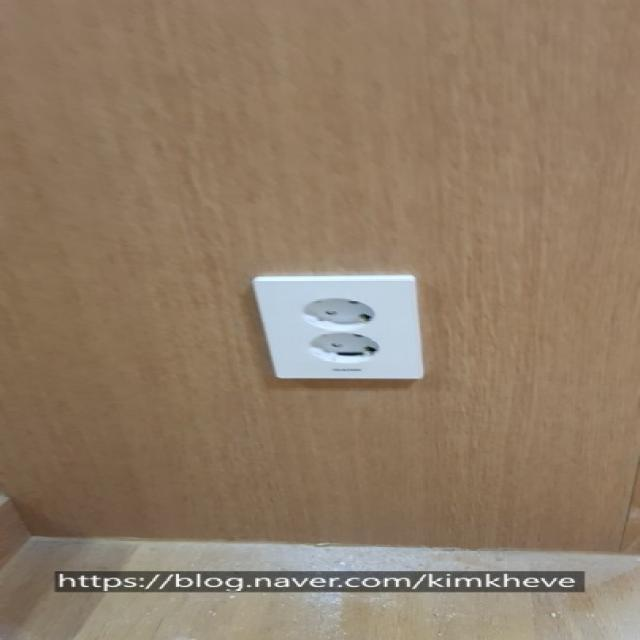typeb: (238, 266, 449, 392)
